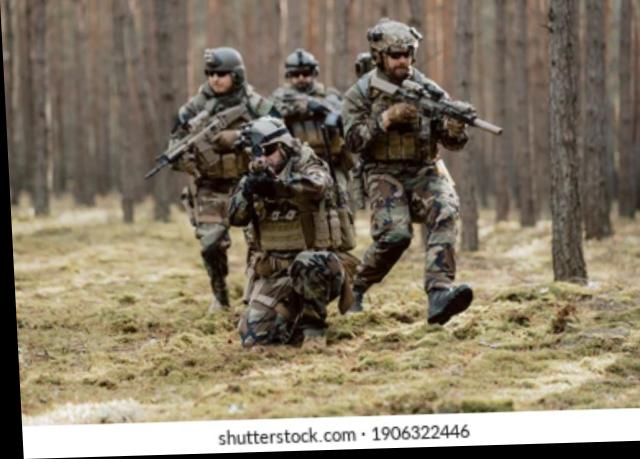other: (340, 19, 469, 325), (171, 48, 265, 283), (267, 47, 341, 127)
